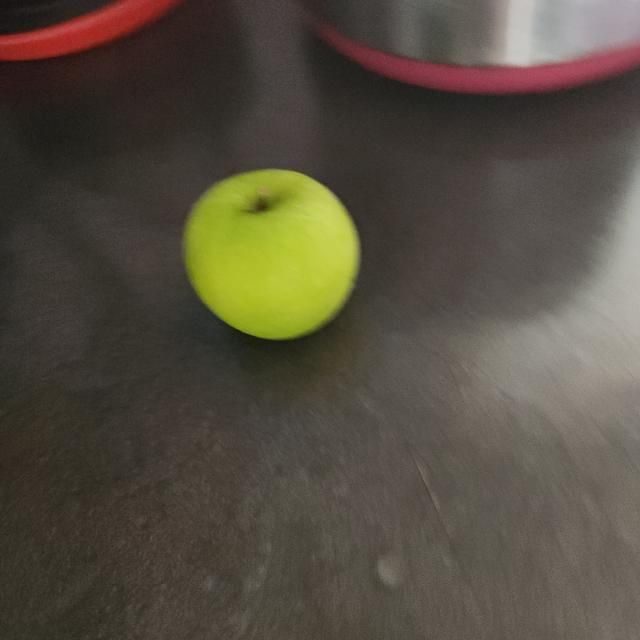apple: (174, 167, 376, 351)
